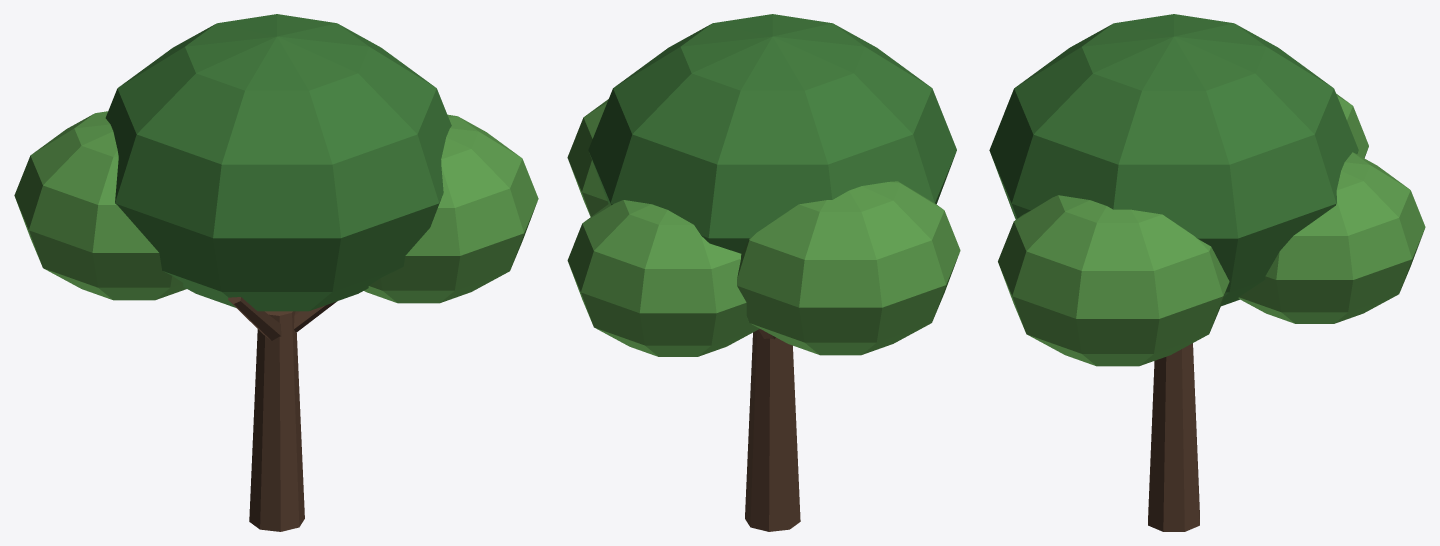
The model's file is tree_big_oak.glb.
The picture shows the model from 3 angles, left to right: view 1: azimuth 30°, elevation 25°; view 2: azimuth 150°, elevation 25°; view 3: azimuth 270°, elevation 25°; orthographic projection.
Visible parts, largest first — view 1: tree_big_oak; view 2: tree_big_oak; view 3: tree_big_oak.
Boxes of the visible parts, left/top/right/bottom form: tree_big_oak: left=14, top=14, right=538, bottom=531; tree_big_oak: left=567, top=14, right=960, bottom=531; tree_big_oak: left=989, top=14, right=1425, bottom=531.
Bounding box in the file's own units: 5.22 × 5.7 × 4.65.
